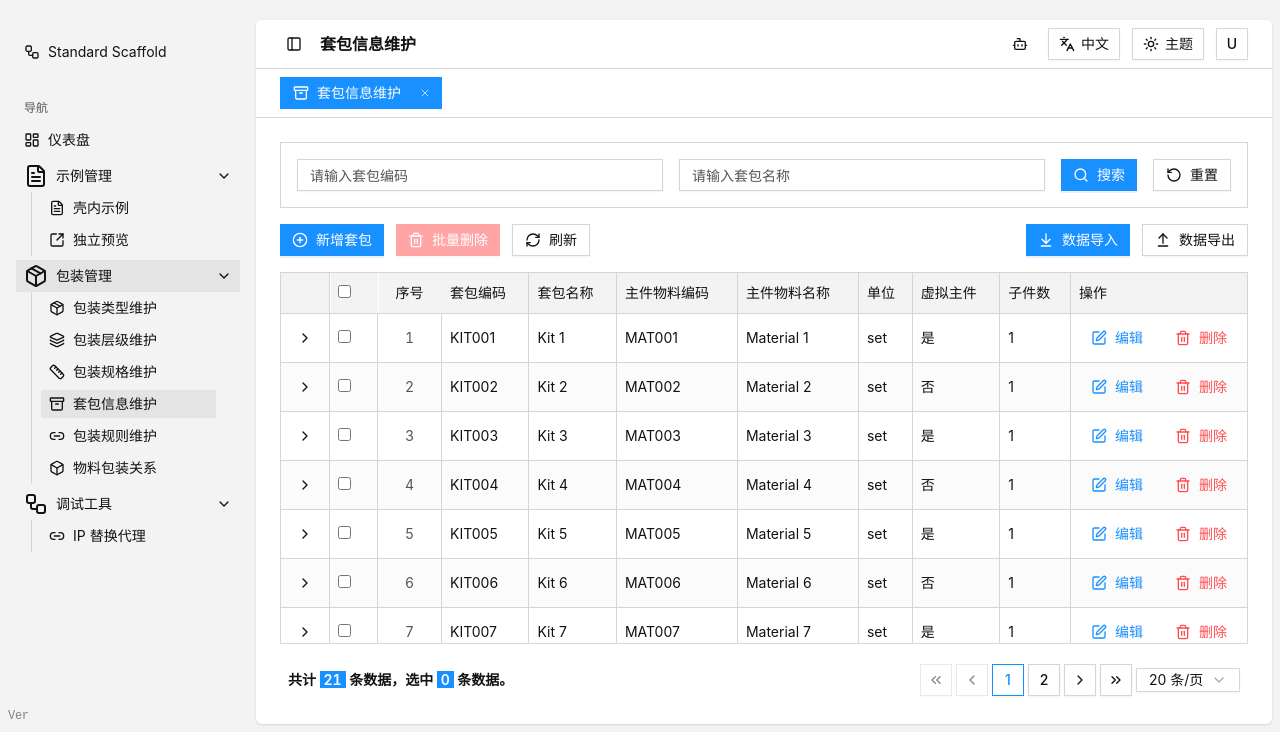
Scenario: PackagingKitPage › clears batch selection after moving away from the selected page
Expected: the button with test id "packaging-kit-edit-KIT001" is shown, x1=1079 y1=322 x2=1155 y2=354
What coordinates should you click on to do the following:
click the button named "下一页"
I would click on:
 (1080, 680)
Its box is x1=1064 y1=664 x2=1096 y2=696.
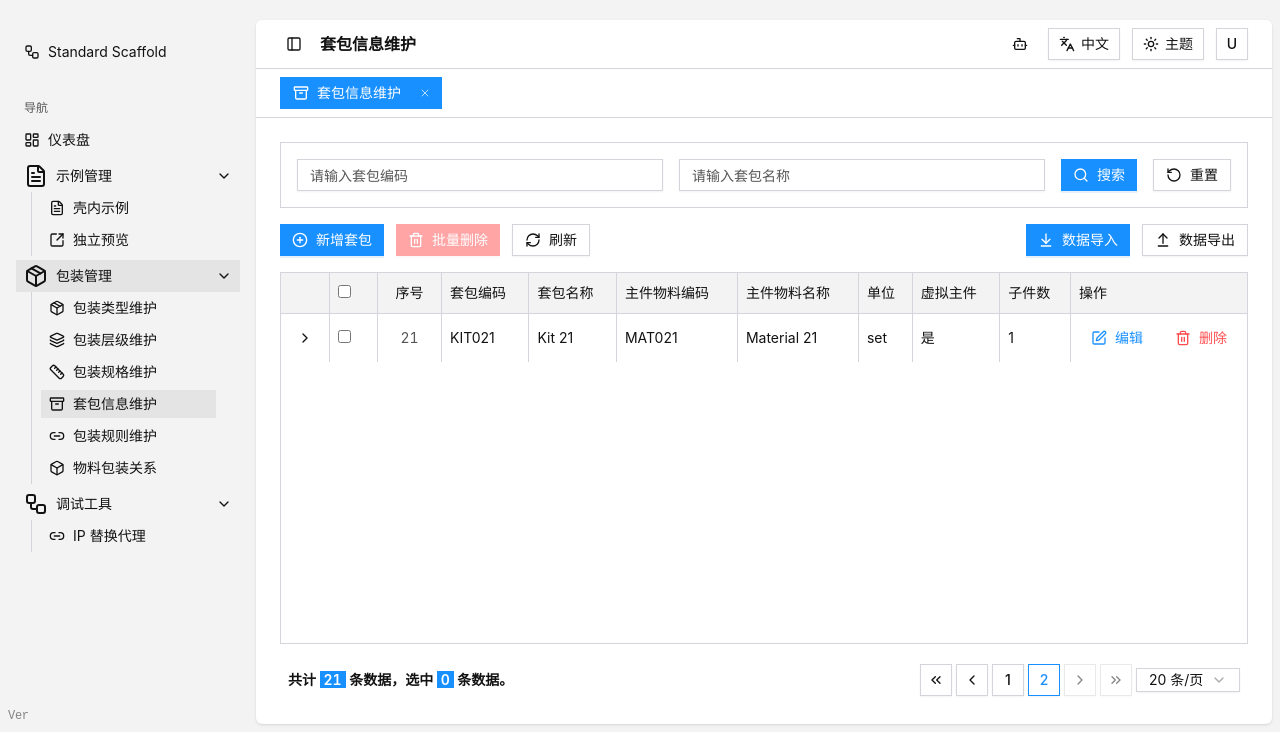
What coordinates should you click on to do the following:
click the checkbox with test id "packaging-kit-select-KIT021"
I would click on:
 (344, 336)
Its box is x1=338 y1=330 x2=351 y2=342.
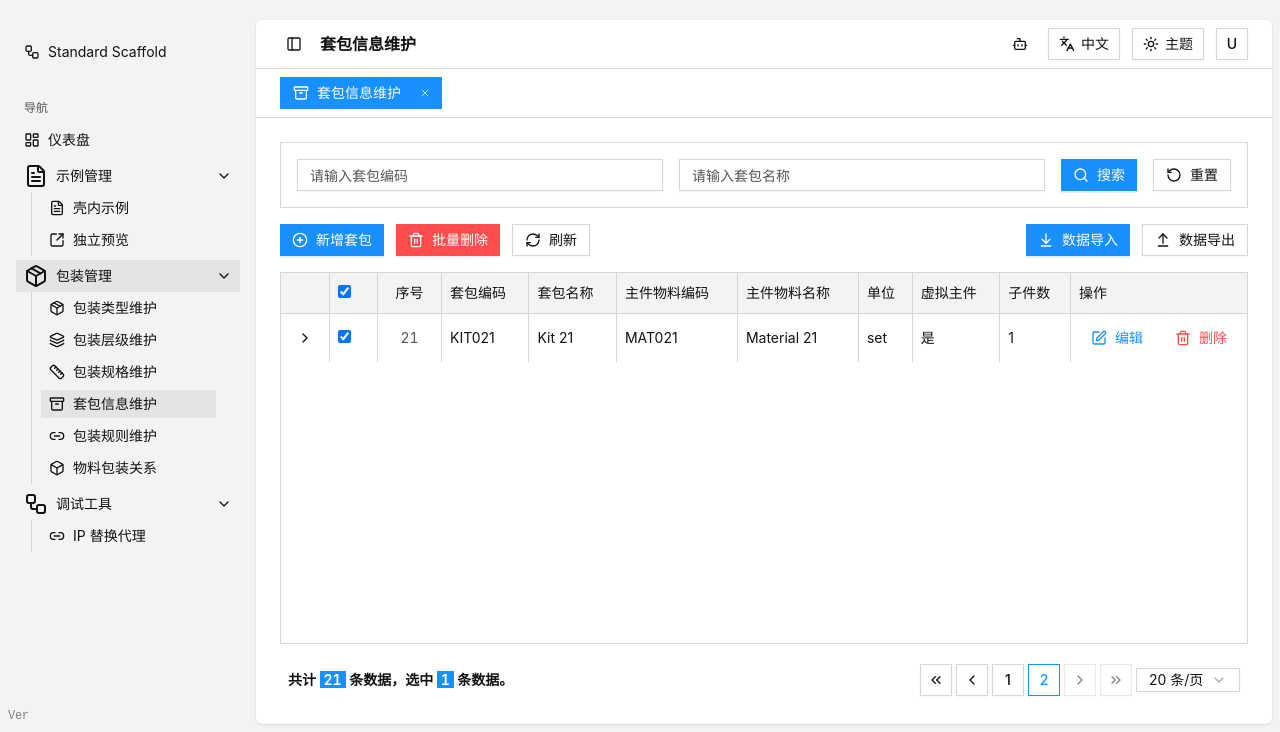
Expected: the button "批量删除" is enabled, x1=396 y1=224 x2=500 y2=256
What coordinates should you click on to do the following:
click the button named "上一页"
I would click on:
 (972, 680)
Its box is x1=956 y1=664 x2=988 y2=696.
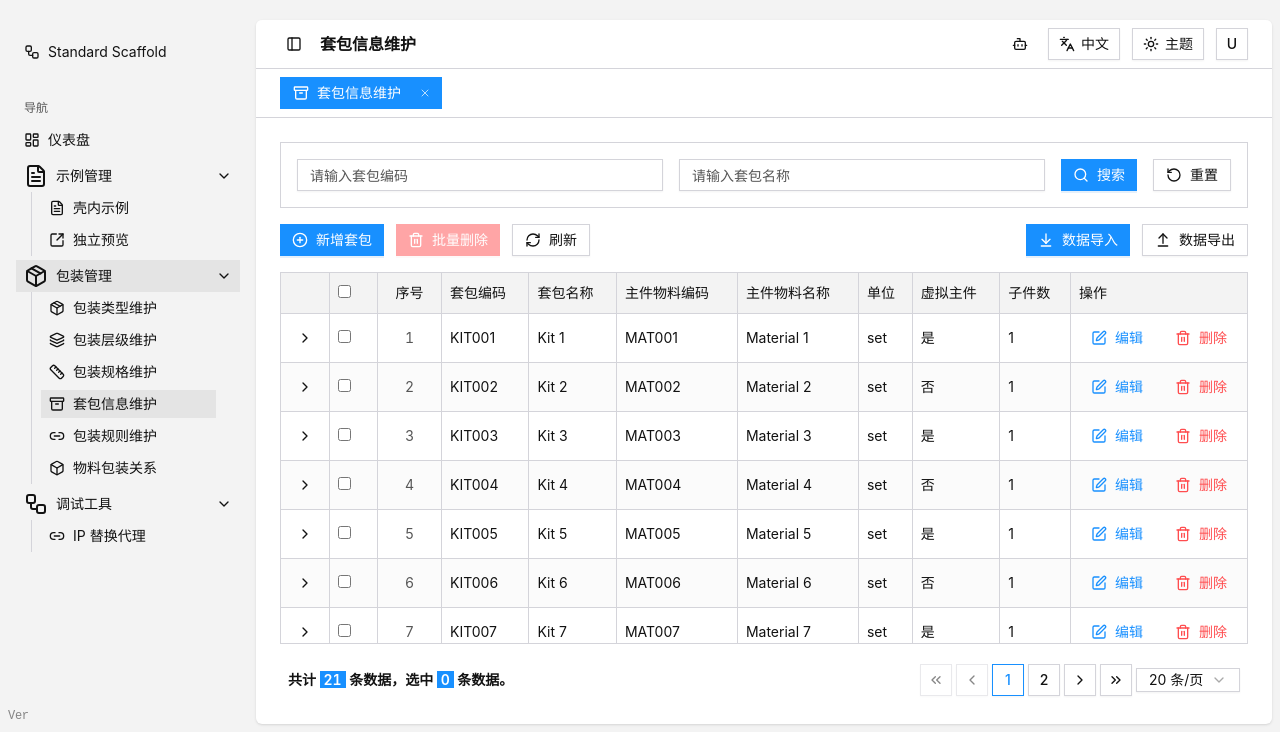
Expected: the button with test id "packaging-kit-edit-KIT001" is shown, x1=1079 y1=322 x2=1155 y2=354
Expected: the button "批量删除" is disabled, x1=396 y1=224 x2=500 y2=256
